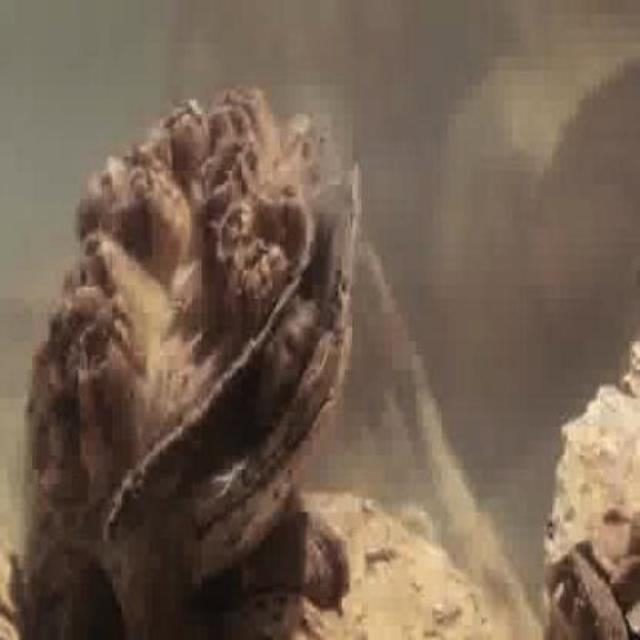Oyster-Closed: (220, 490, 522, 640), (550, 338, 640, 634), (202, 510, 347, 608)
Oyster-Open: (21, 76, 361, 631), (537, 559, 625, 640)
